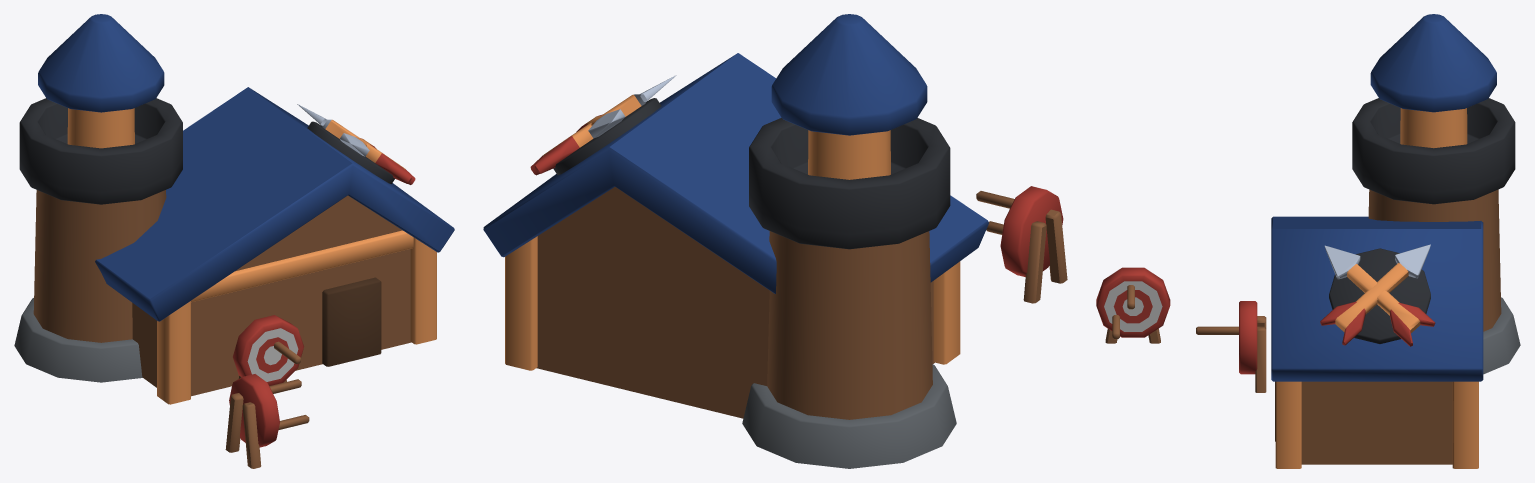
File: Archer-Barrack.fbx
3 views of the same model, side by side, from view 1: azimuth 30°, elevation 25°; view 2: azimuth 150°, elevation 25°; view 3: azimuth 270°, elevation 25° (orthographic). The views are drawn at different scales.
Visible parts, largest first — view 1: Cube.1458, Cylinder.302, Cube.1457, Cylinder.303, Cube.1459, Cube.1462, Cylinder.304, Cube.1461, Cube.1460, Cylinder.317, Cube.1528, Cube.1465 (+1 smaller); view 2: Cylinder.302, Cube.1457, Cube.1458, Cylinder.303, Cube.1460, Cylinder.317, Cube.1461, Cube.1528, Cube.1523, Cylinder.305, Cube.1465; view 3: Cube.1458, Cylinder.302, Cube.1457, Cylinder.303, Cube.1460, Cylinder.317, Cylinder.305, Cube.1465, Cube.1523, Cylinder.304, Cube.1463.
Boxes of the visible parts, x1,y1,x2,y2 form: Cube.1458: (95,87,454,321); Cylinder.302: (14,14,166,382); Cube.1457: (132,195,411,396); Cylinder.303: (19,98,182,204); Cube.1459: (322,277,381,366); Cube.1462: (191,230,413,302); Cylinder.304: (233,315,303,385); Cube.1461: (157,301,190,404); Cube.1460: (410,237,436,344); Cylinder.317: (229,374,279,447); Cube.1528: (225,393,261,468); Cube.1465: (297,104,415,184); Cylinder.302: (742,14,956,468); Cube.1457: (536,187,934,418); Cube.1458: (483,53,988,293); Cylinder.303: (749,118,950,249); Cube.1460: (505,236,537,370); Cylinder.317: (1000,186,1063,276); Cube.1461: (933,261,960,364); Cube.1528: (1023,209,1067,303); Cube.1523: (530,75,676,175); Cylinder.305: (553,98,661,175); Cube.1465: (576,109,625,138); Cube.1458: (1271,216,1483,381); Cylinder.302: (1368,14,1520,374); Cube.1457: (1301,381,1452,464); Cylinder.303: (1352,98,1515,204); Cube.1460: (1275,381,1478,468); Cylinder.317: (1096,267,1170,337); Cylinder.305: (1329,248,1430,343); Cube.1465: (1320,244,1430,345); Cube.1523: (1324,245,1435,346); Cylinder.304: (1239,301,1257,374); Cube.1463: (1255,316,1266,392).
Size of the model in its own units: 153 by 137 by 161.
